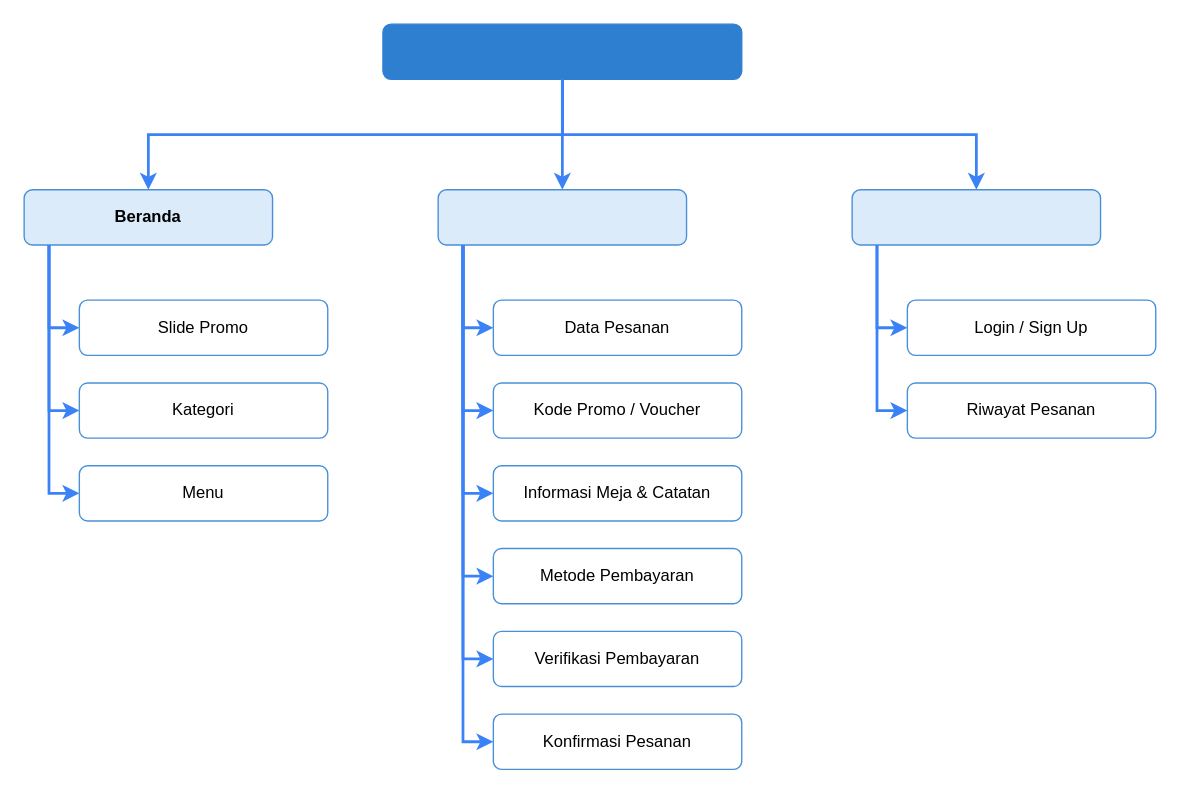
The diagram is 1180 pixels wide and 794 high, and some of its shapes have lost their labels. The centre of each missing label's shape, as x and y in pixels:
"Akun Pengguna" belongs at (976,216).
"Aplikasi Pelanggan" belongs at (562,51).
"Keranjang" belongs at (562,216).
